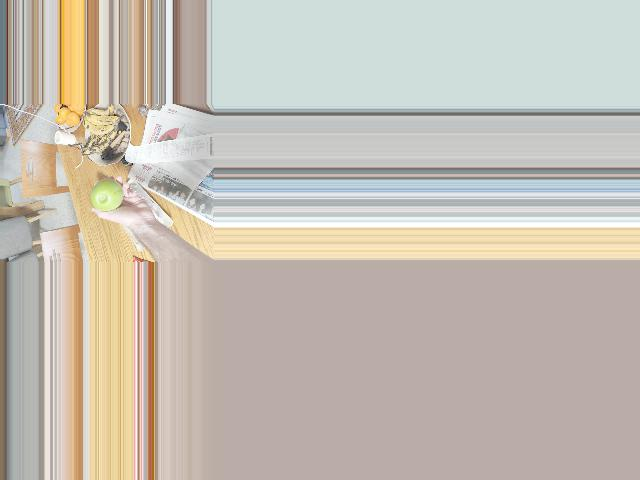apple: (89, 180, 124, 214)
